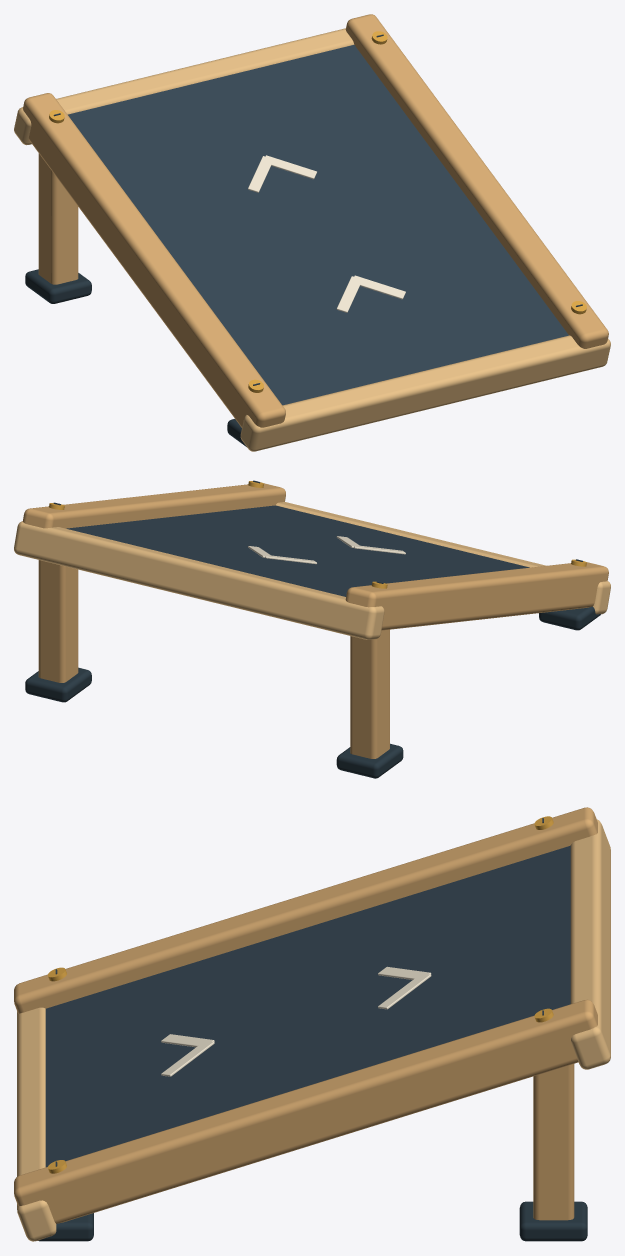
File: play-ramp-wider-surface.glb
3 views of the same model, one above another, from view 1: azimuth 30°, elevation 25°; view 2: azimuth 150°, elevation 25°; view 3: azimuth 270°, elevation 25° (orthographic). The views are drawn at different scales.
Visible parts, largest first — view 1: Ramp_Driving_Surface, Ramp_Wood_Rail_Left, Ramp_Wood_Rail_Right, Ramp_End_Bar_0.185, Ramp_End_Bar_-0.185, Ramp_Rear_Support_-0.139, Ramp_Rear_Foot_-0.139; view 2: Ramp_Driving_Surface, Ramp_End_Bar_-0.185, Ramp_Wood_Rail_Left, Ramp_Wood_Rail_Right, Ramp_Rear_Support_-0.139, Ramp_Rear_Support_0.139, Ramp_End_Bar_0.185, Ramp_Rear_Foot_0.139, Ramp_Rear_Foot_-0.139, Ramp_Front_Foot_-0.139; view 3: Ramp_Driving_Surface, Ramp_Wood_Rail_Right, Ramp_Wood_Rail_Left, Ramp_End_Bar_-0.185, Ramp_Rear_Support_0.139, Ramp_End_Bar_0.185, Ramp_Rear_Foot_0.139, Ramp_Front_Foot_0.139.
Part boxes in pixels (<box>): Ramp_Driving_Surface: <box>68,45,568,405</box>; Ramp_Wood_Rail_Left: <box>23,93,285,427</box>; Ramp_Wood_Rail_Right: <box>345,14,608,348</box>; Ramp_End_Bar_0.185: <box>240,335,610,451</box>; Ramp_End_Bar_-0.185: <box>14,28,354,145</box>; Ramp_Rear_Support_-0.139: <box>38,153,78,284</box>; Ramp_Rear_Foot_-0.139: <box>25,269,91,303</box>; Ramp_Driving_Surface: <box>66,505,529,596</box>; Ramp_End_Bar_-0.185: <box>14,521,384,639</box>; Ramp_Wood_Rail_Left: <box>345,562,608,630</box>; Ramp_Wood_Rail_Right: <box>23,483,285,528</box>; Ramp_Rear_Support_-0.139: <box>350,629,389,758</box>; Ramp_Rear_Support_0.139: <box>38,560,78,682</box>; Ramp_End_Bar_0.185: <box>275,502,610,614</box>; Ramp_Rear_Foot_0.139: <box>25,667,91,702</box>; Ramp_Rear_Foot_-0.139: <box>336,743,403,778</box>; Ramp_Front_Foot_-0.139: <box>539,606,600,630</box>; Ramp_Driving_Surface: <box>45,845,570,1167</box>; Ramp_Wood_Rail_Right: <box>14,999,597,1223</box>; Ramp_Wood_Rail_Left: <box>14,807,597,1013</box>; Ramp_End_Bar_-0.185: <box>570,819,610,1069</box>; Ramp_Rear_Support_0.139: <box>533,1064,574,1220</box>; Ramp_End_Bar_0.185: <box>17,1007,56,1241</box>; Ramp_Rear_Foot_0.139: <box>519,1201,587,1241</box>; Ramp_Front_Foot_0.139: <box>38,1213,93,1241</box>.
Bounding box in the file's own units: 0.32 × 0.1594 × 0.3778.
